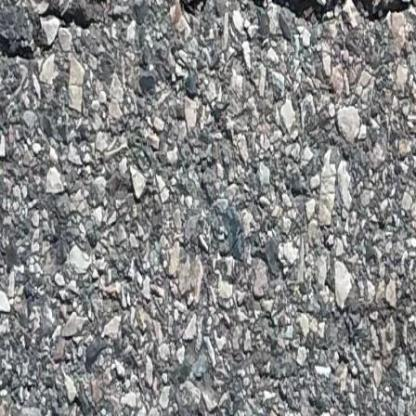Cracks: (180, 0, 416, 52)
